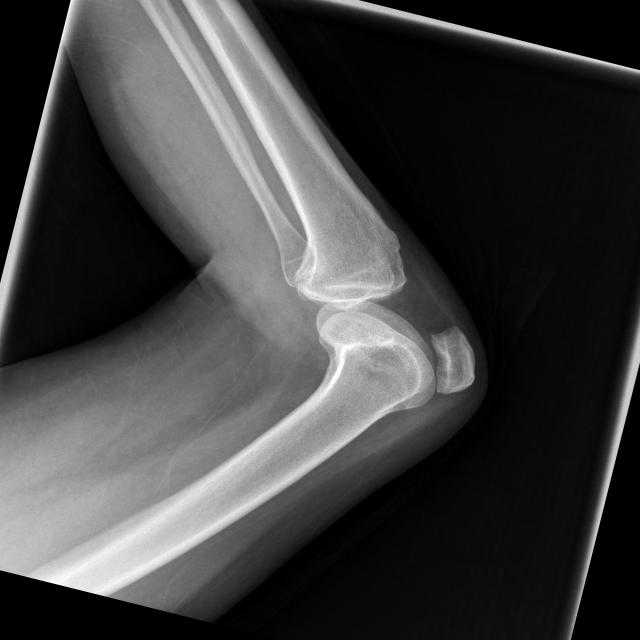Knee: (264, 204, 512, 434)
